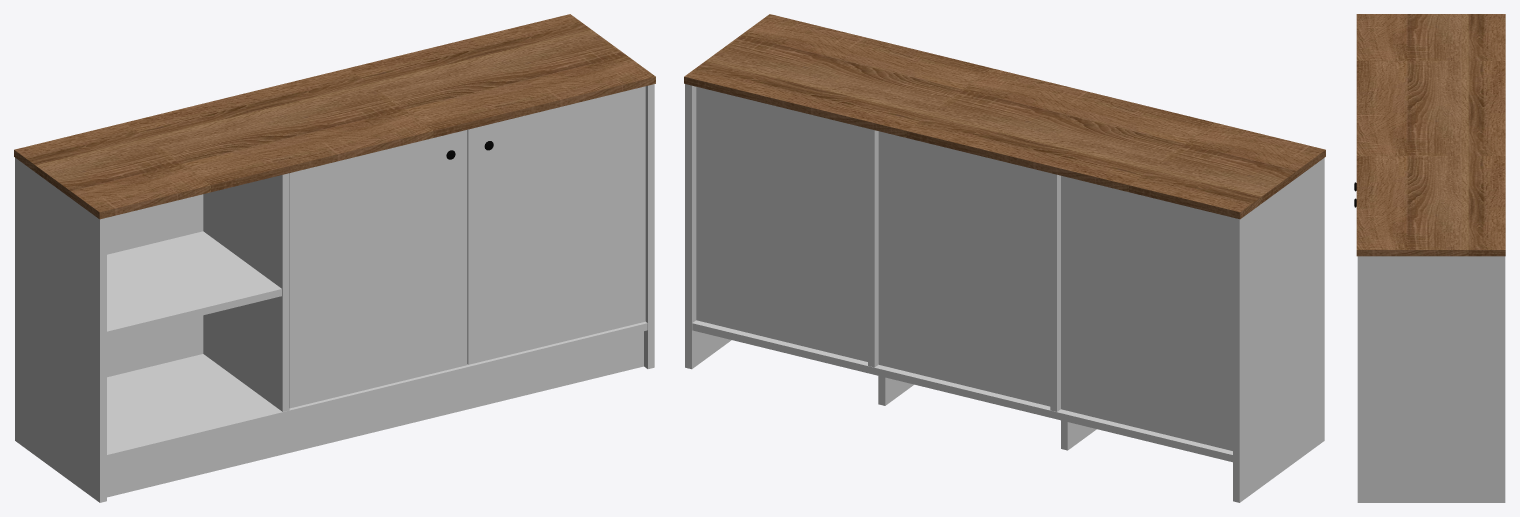
3 views of the same model, side by side, from view 1: azimuth 30°, elevation 25°; view 2: azimuth 150°, elevation 25°; view 3: azimuth 270°, elevation 25° (orthographic). The views are drawn at different scales.
Parts seen in each view (by area): view 1: TET 2_1, object 7, object 8, OLD_B 4_3, DHAT [1] 5_4, FEN 1_0, FUG/Csap/Exc [1] 6_5, VIV/Exc/Csap [1] 13_12, HAT_3 [3] 12_11, OLD_J 3_2; view 2: TET 2_1, HAT_3 [2] 11_10, HAT_3 [1] 10_9, HAT_3 [3] 12_11, OLD_B 4_3, FEN 1_0, OLD_J 3_2, FUG/Csap/Exc [1] 6_5, FUG/Csap/Exc [2] 9_8; view 3: OLD_J 3_2, TET 2_1.
Boxes of the visible parts, x1,y1,x2,y2 form: TET 2_1: (14,14,655,219); object 7: (289,130,467,408); object 8: (467,86,645,364); OLD_B 4_3: (15,158,106,502); DHAT [1] 5_4: (107,331,643,497); FEN 1_0: (107,321,647,461); FUG/Csap/Exc [1] 6_5: (203,173,289,411); VIV/Exc/Csap [1] 13_12: (107,231,281,338); HAT_3 [3] 12_11: (107,194,203,377); OLD_J 3_2: (644,84,654,368); TET 2_1: (684,14,1325,219); HAT_3 [2] 11_10: (878,131,1050,406); HAT_3 [1] 10_9: (696,86,867,361); HAT_3 [3] 12_11: (1061,175,1232,450); OLD_B 4_3: (1233,158,1324,502); FEN 1_0: (692,320,1232,462); OLD_J 3_2: (685,84,731,369); FUG/Csap/Exc [1] 6_5: (1050,173,1060,411); FUG/Csap/Exc [2] 9_8: (868,128,878,367); OLD_J 3_2: (1357,256,1505,502); TET 2_1: (1356,14,1505,256).
Bounding box in the file's own units: 1.5 × 0.75 × 0.407.
3 materials, 1 textured.
